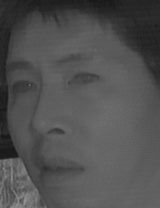eye: (66, 69, 101, 91), (9, 78, 39, 98)
mouth: (26, 152, 89, 185)
